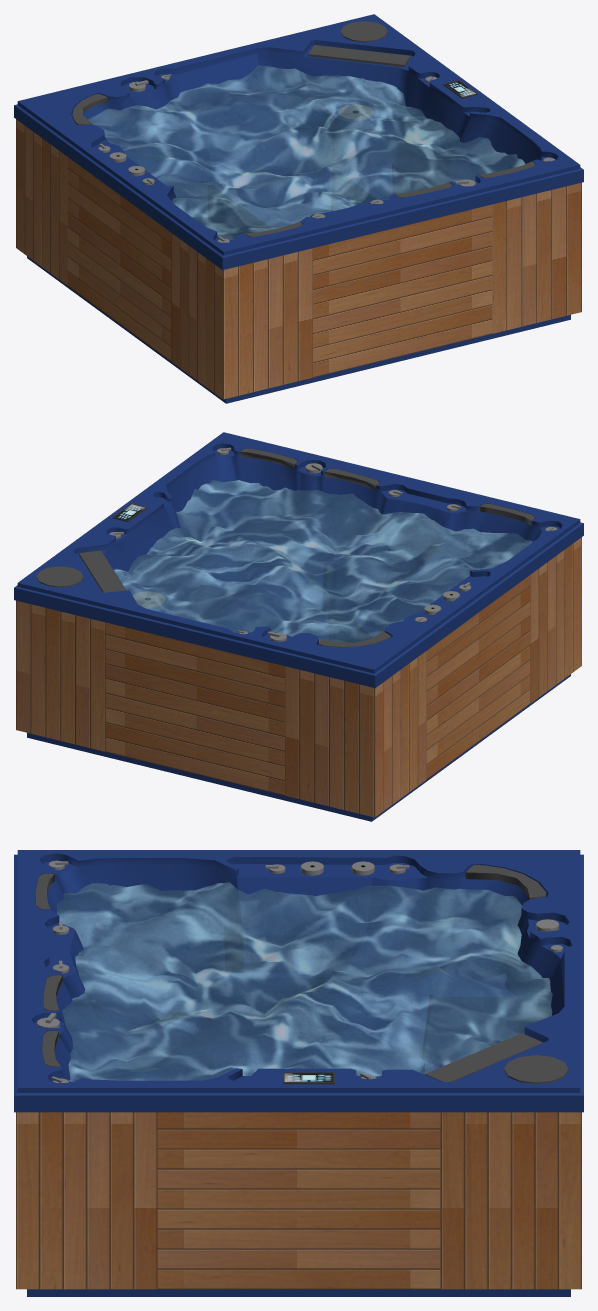
The model's file is jacuzzi.obj.
The picture shows the model from 3 angles, top to bottom: view 1: azimuth 30°, elevation 25°; view 2: azimuth 150°, elevation 25°; view 3: azimuth 270°, elevation 25°; orthographic projection. The views are drawn at different scales.
Parts seen in each view (by area): view 1: Cube.001, Cube.006, Plane.001, Cube, Cylinder.002_Cylinder.003, Cube.004, Cube.002; view 2: Cube.001, Cube.006, Plane.001, Cube.004, Cube, Cylinder.002_Cylinder.003, Cube.003; view 3: Cube.001, Cube.006, Plane.001, Cube, Cylinder.002_Cylinder.003, Cube.002, Cube.004, Cube.005.
Part boxes in pixels (x1,y1,x2,y2): Cube.001: [14, 14, 583, 403]; Cube.006: [16, 119, 581, 399]; Plane.001: [88, 65, 525, 240]; Cube: [308, 45, 410, 66]; Cylinder.002_Cylinder.003: [340, 21, 387, 42]; Cube.004: [395, 161, 535, 197]; Cube.002: [72, 94, 107, 124]; Cube.001: [14, 432, 583, 821]; Cube.006: [16, 537, 581, 817]; Plane.001: [114, 480, 532, 642]; Cube.004: [240, 448, 379, 490]; Cube: [79, 550, 125, 592]; Cylinder.002_Cylinder.003: [36, 566, 83, 587]; Cube.003: [480, 504, 535, 525]; Cube.001: [14, 850, 583, 1296]; Cube.006: [16, 1112, 581, 1289]; Plane.001: [57, 882, 552, 1081]; Cube: [425, 1033, 543, 1081]; Cylinder.002_Cylinder.003: [504, 1055, 568, 1083]; Cube.002: [465, 865, 546, 899]; Cube.004: [42, 975, 62, 1066]; Cube.005: [283, 1072, 334, 1084].
Size of the model in its own units: 228 by 94.77 by 228.
9 materials, 3 textured.
